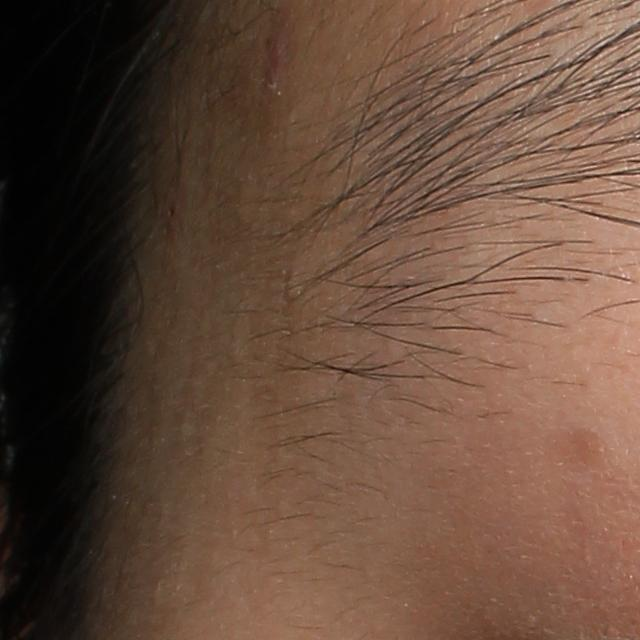melasma: (542, 423, 608, 488)
